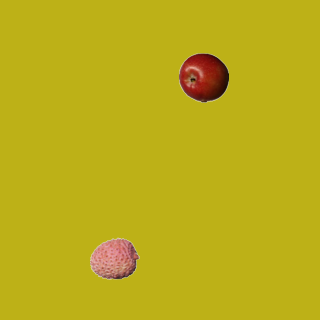Apple Braeburn: (178, 52, 228, 102)
Lychee: (89, 233, 139, 283)
